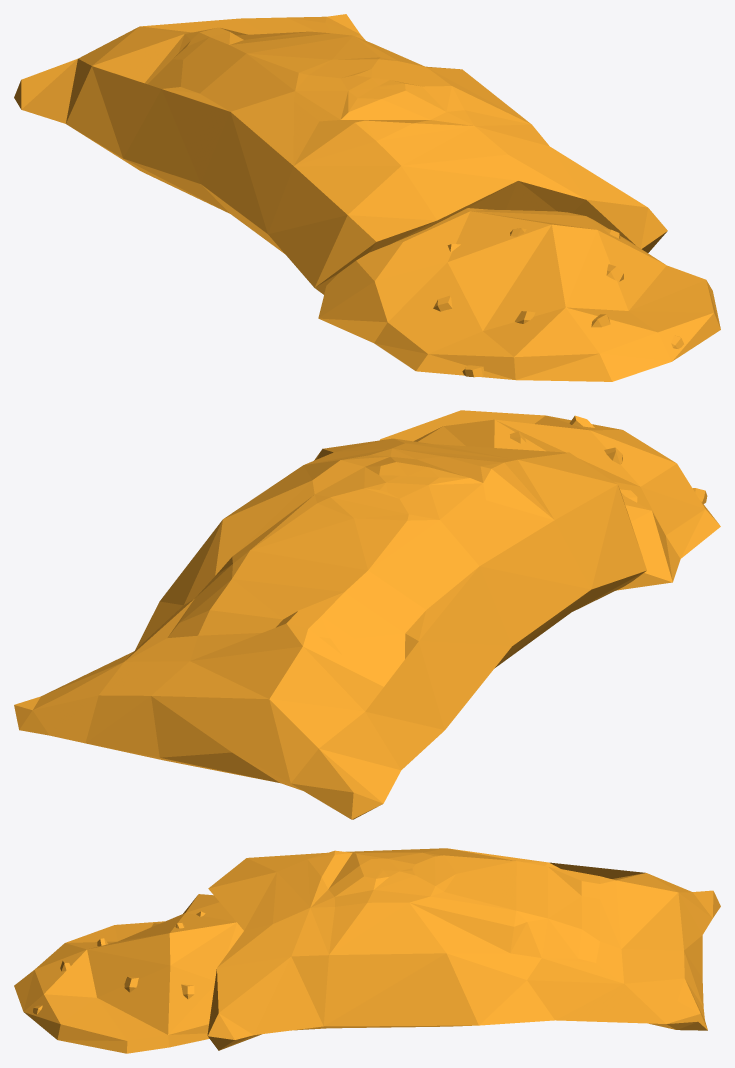
Rendered from SM_Bag_Soil_Spilled_Farm.fbx.
3 views of the same model, one above another, from view 1: azimuth 30°, elevation 25°; view 2: azimuth 150°, elevation 25°; view 3: azimuth 270°, elevation 25° (orthographic). The views are drawn at different scales.
Visible parts, largest first — view 1: bag-soil-spilled-farm; view 2: bag-soil-spilled-farm; view 3: bag-soil-spilled-farm.
Part boxes in pixels (box(x1,y1,x2,y2)): bag-soil-spilled-farm: box(14, 14, 720, 381); bag-soil-spilled-farm: box(14, 410, 720, 819); bag-soil-spilled-farm: box(14, 848, 720, 1053).
Size of the model in its own units: 0.617 by 0.2426 by 1.29.
